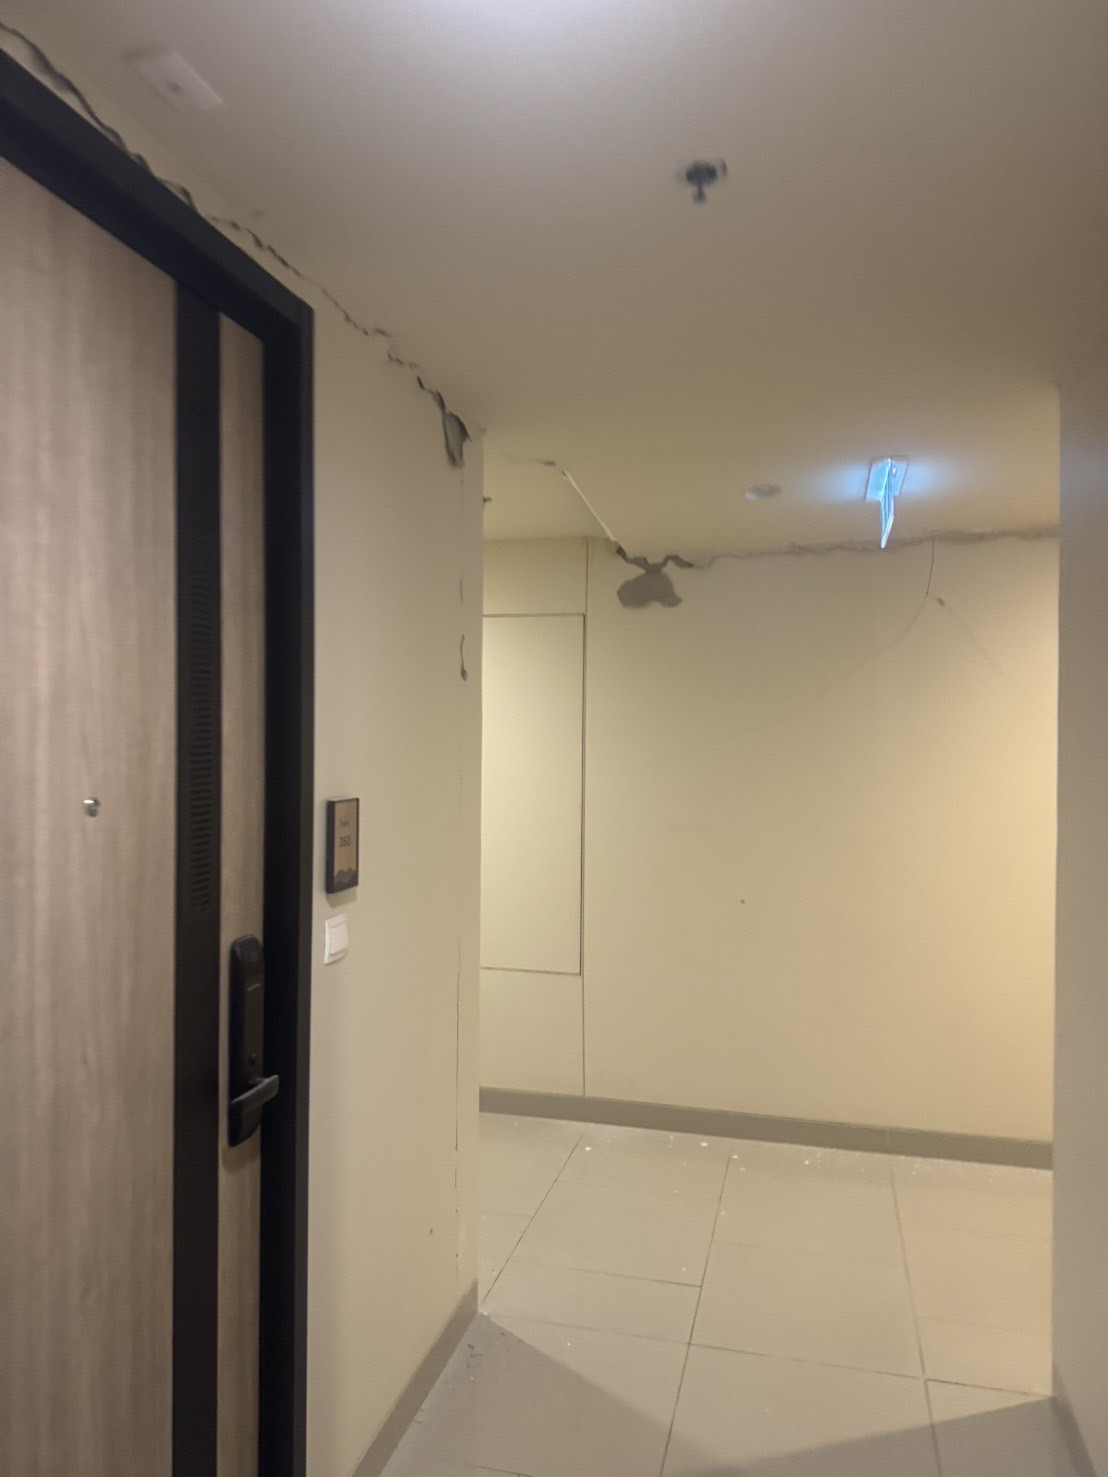Medium: (325, 284, 717, 602)
